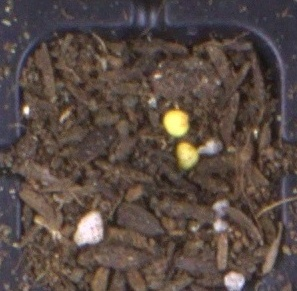chilli seed: (163, 109, 189, 137), (176, 141, 199, 170)
